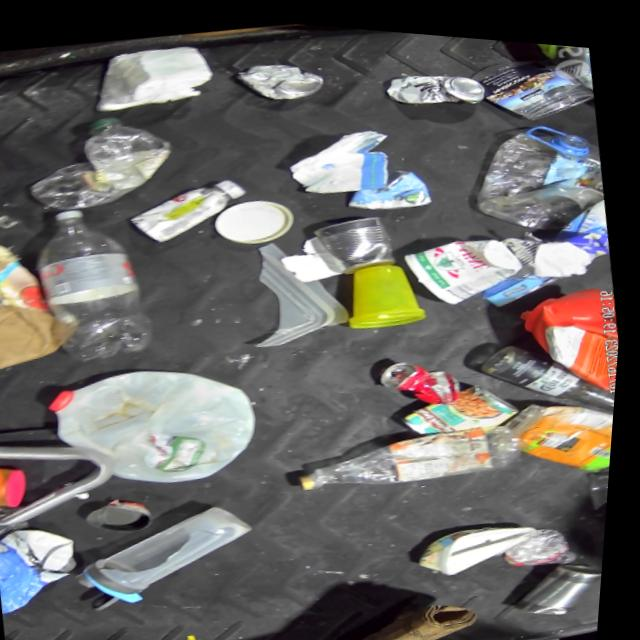can: (468, 212, 578, 305), (396, 364, 530, 438), (512, 543, 610, 616), (309, 202, 404, 277), (382, 53, 489, 112), (376, 342, 469, 409), (233, 47, 329, 106), (88, 490, 165, 539)
milk_jug: (45, 340, 274, 504)
non_white_jug: (464, 100, 615, 236), (510, 269, 626, 397), (0, 516, 97, 619), (550, 183, 616, 256)
plastic_bottle: (293, 397, 534, 503), (27, 193, 165, 371), (16, 97, 185, 223), (503, 508, 590, 567)
